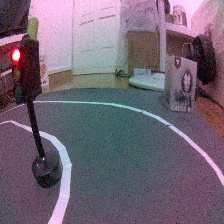red: (10, 33, 63, 188)
